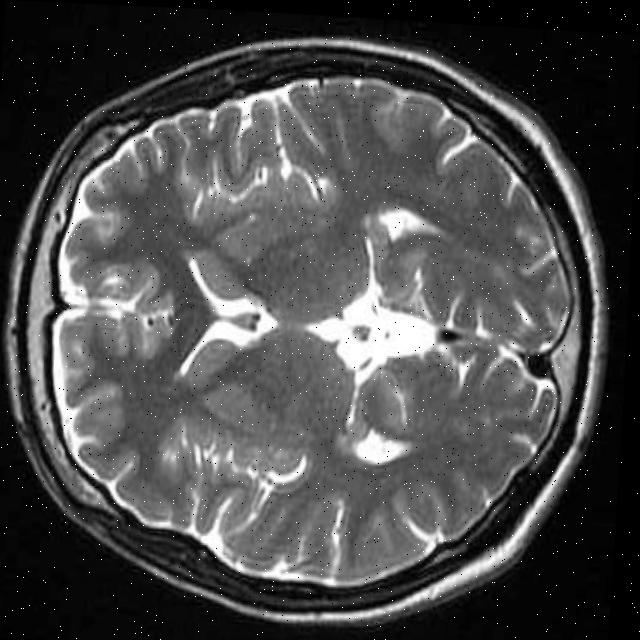NoTumor: (31, 52, 598, 607)
